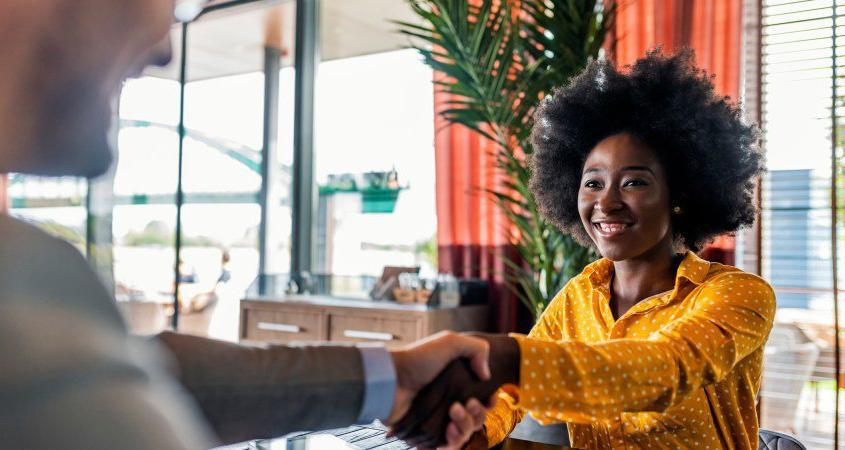Sober: (584, 155, 662, 257)
